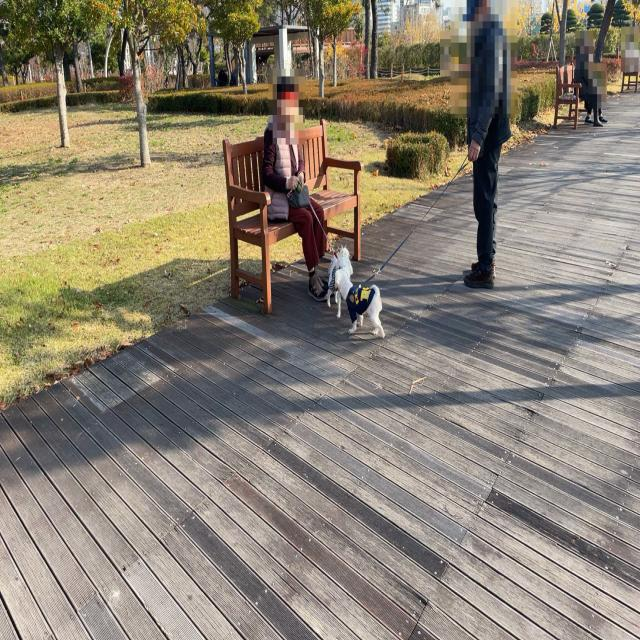Leashed_Dog: (334, 150, 486, 341), (311, 216, 354, 322)
